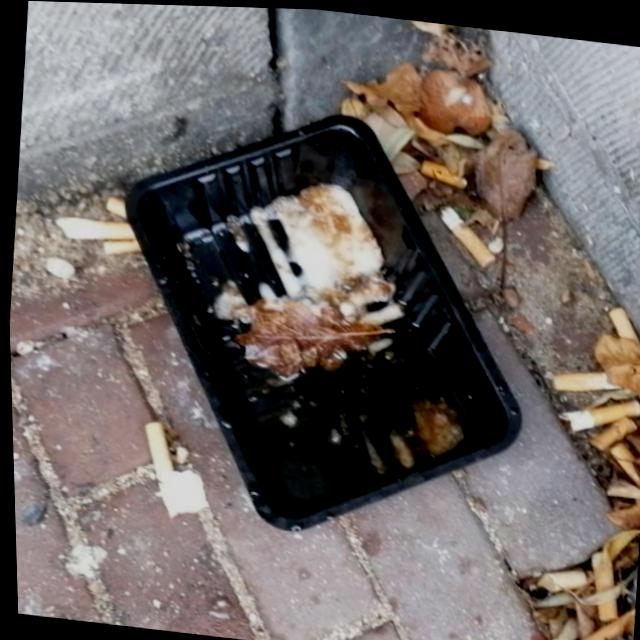Plastic: (88, 85, 549, 557)
